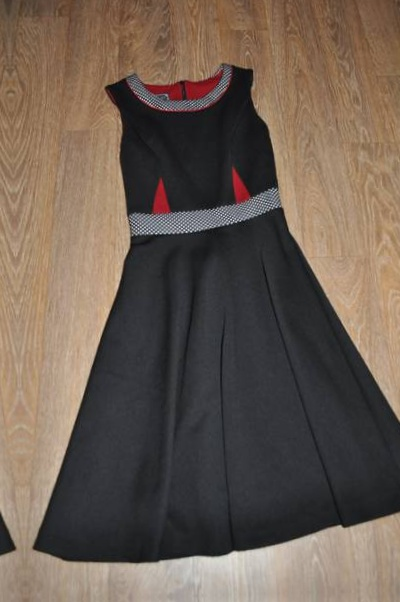Dress: (11, 42, 400, 575), (0, 54, 23, 587)
